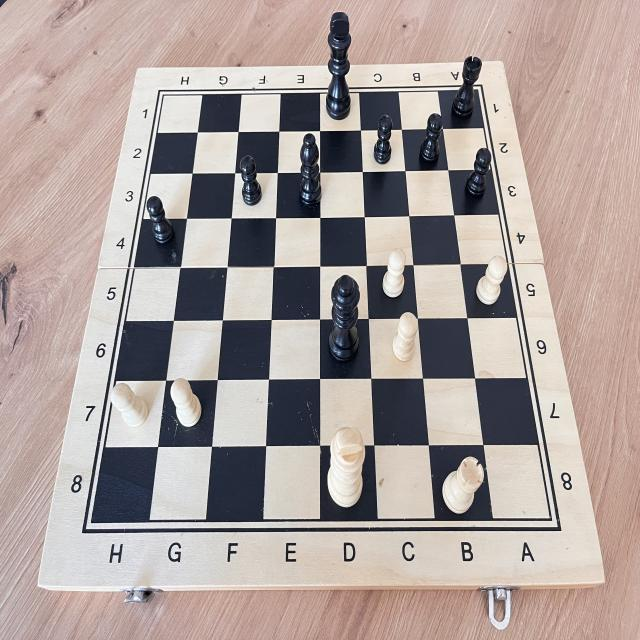black-bishop: (289, 126, 328, 214)
black-king: (322, 5, 358, 122)
black-pawn: (455, 143, 499, 210), (140, 192, 180, 251), (412, 110, 448, 174), (233, 148, 267, 212), (368, 108, 399, 172)
black-queen: (322, 267, 364, 369)
black-rook: (446, 50, 488, 128)
white-king: (321, 415, 371, 518)
white-pawn: (469, 246, 513, 319), (168, 372, 210, 438), (108, 377, 155, 433), (377, 238, 413, 302), (386, 308, 422, 366)
white-rook: (438, 447, 486, 522)
